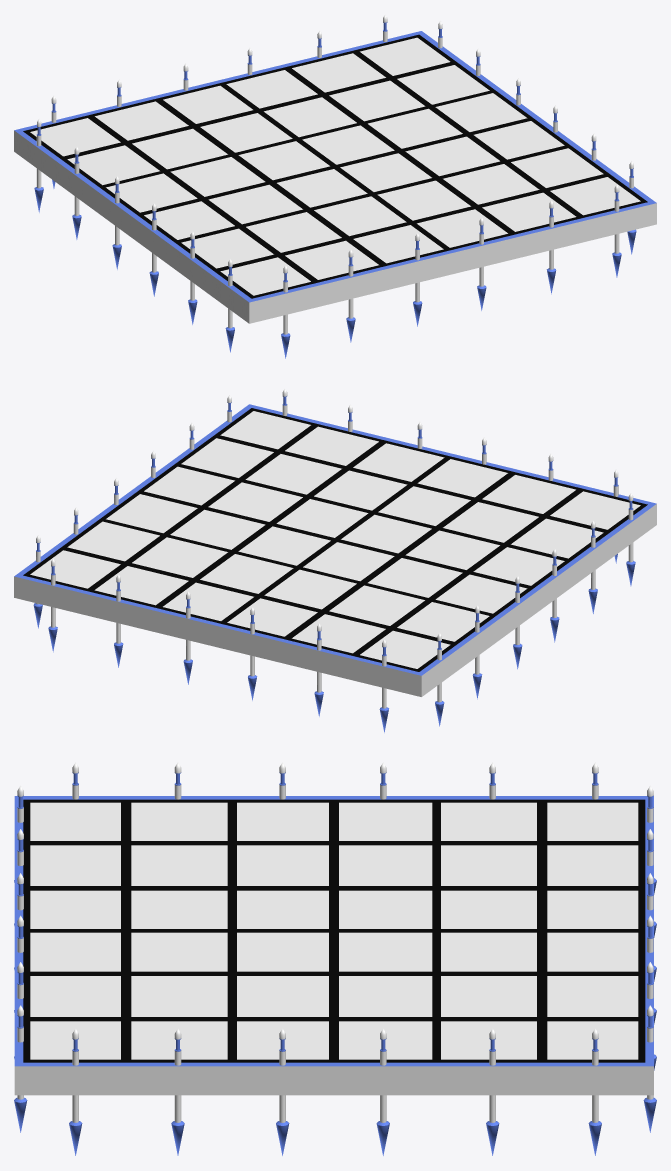
The model's file is Dest_PowerPlant_Field.FBX.
3 views of the same model, one above another, from view 1: azimuth 30°, elevation 25°; view 2: azimuth 150°, elevation 25°; view 3: azimuth 270°, elevation 25° (orthographic). The views are drawn at different scales.
Parts seen in each view (by area): view 1: Box001; view 2: Box001; view 3: Box001.
Part boxes in pixels (x1,y1,x2,y2): Box001: (14, 15, 656, 358); Box001: (14, 389, 656, 732); Box001: (14, 762, 656, 1155).
Size of the model in its own units: 201 by 44.4 by 201.
